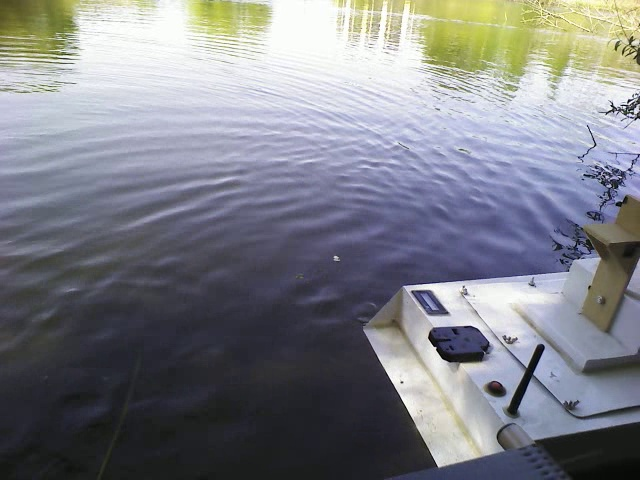boat: (361, 227, 636, 467)
